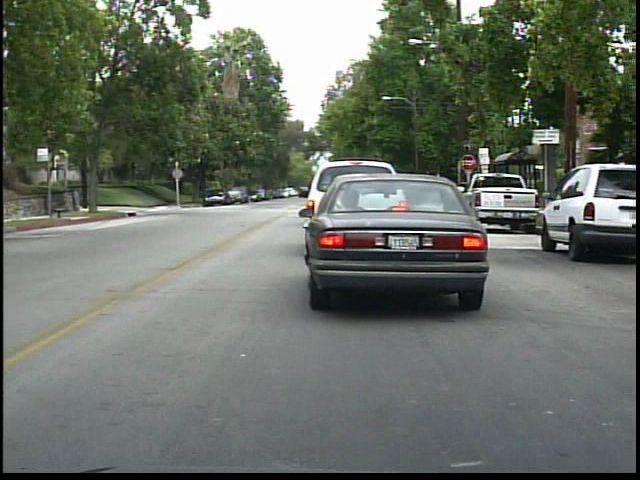person: (200, 180, 216, 205)
